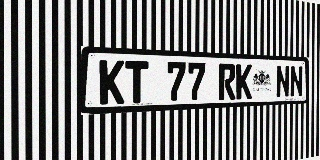7: (166, 62, 186, 102), (187, 62, 206, 101)
K: (99, 60, 124, 105), (236, 64, 252, 99)
N: (276, 65, 290, 98), (290, 66, 303, 97)
R: (219, 63, 236, 100)
T: (125, 61, 148, 104)
